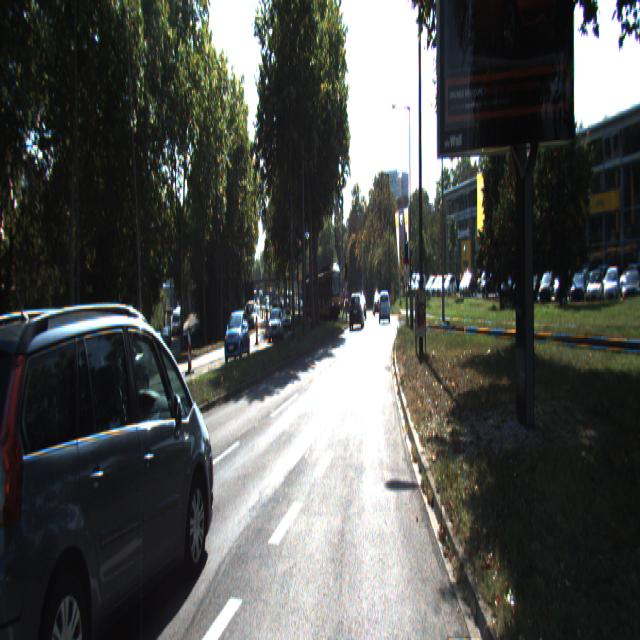Car: (0, 270, 215, 638), (87, 321, 151, 420), (224, 310, 250, 363), (349, 293, 365, 331), (379, 291, 390, 324)
DontCare: (398, 249, 639, 306), (251, 283, 304, 345)
Tram: (307, 268, 341, 322)
